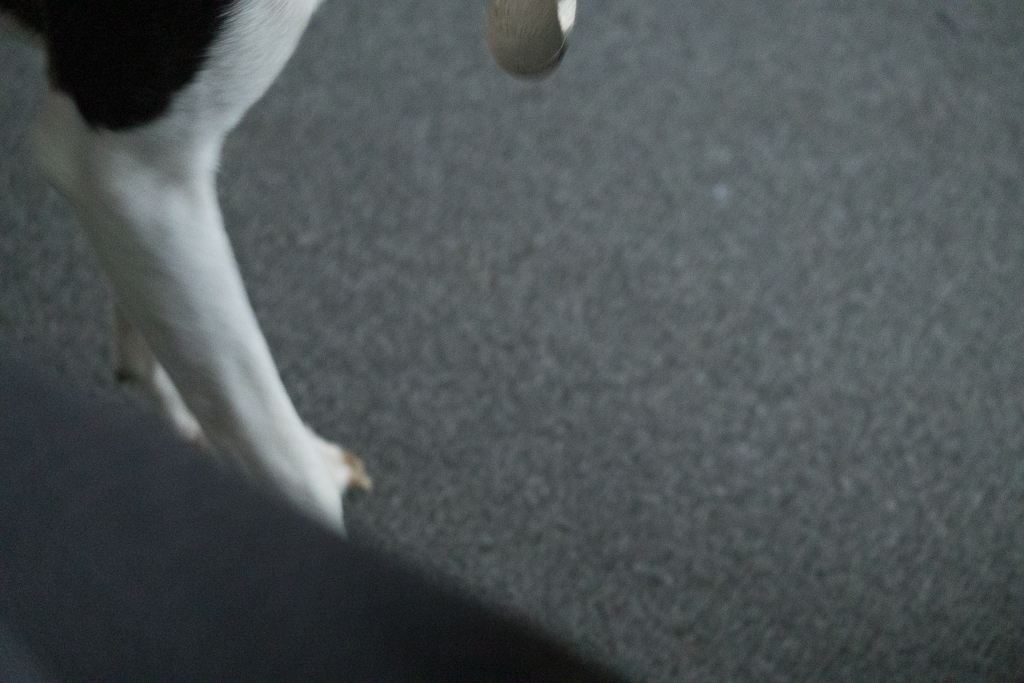Dog: (0, 0, 378, 551)
